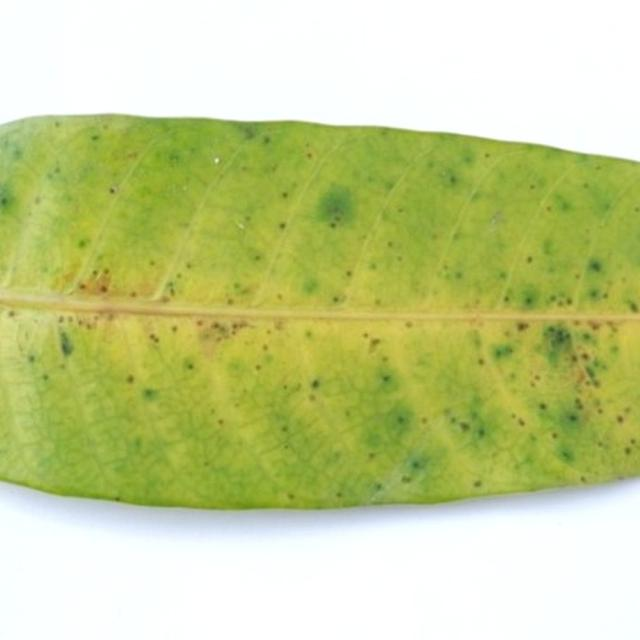Mango: (0, 116, 639, 508)
Powdery_Mildew: (349, 202, 445, 295), (211, 229, 271, 282), (567, 177, 624, 232), (574, 250, 627, 304), (266, 405, 313, 453), (550, 401, 586, 442), (320, 192, 352, 223), (431, 165, 465, 193), (383, 407, 414, 436), (70, 312, 110, 332), (374, 364, 396, 396), (546, 193, 574, 218), (515, 284, 542, 307), (231, 122, 262, 141), (205, 321, 231, 341), (363, 333, 385, 354), (57, 329, 74, 356), (492, 342, 516, 360), (0, 187, 16, 212), (582, 363, 599, 382), (548, 293, 571, 307), (302, 278, 320, 295), (541, 238, 557, 257), (410, 456, 428, 472), (166, 150, 184, 165), (488, 211, 503, 226), (272, 317, 287, 331), (142, 387, 157, 400), (516, 320, 531, 332), (166, 282, 177, 297), (125, 151, 139, 160), (149, 333, 160, 344), (460, 421, 470, 432), (78, 238, 88, 248), (99, 283, 109, 293), (477, 427, 486, 438), (310, 379, 320, 388), (7, 309, 17, 318), (374, 482, 383, 491), (616, 414, 625, 423), (624, 446, 633, 455), (332, 295, 342, 303), (126, 374, 134, 384), (579, 474, 589, 482), (538, 402, 547, 410), (27, 355, 36, 363), (402, 475, 411, 483), (517, 418, 525, 427), (473, 480, 482, 488), (108, 186, 117, 194), (186, 362, 194, 370), (278, 222, 286, 230), (287, 492, 295, 500), (526, 256, 533, 264), (91, 134, 99, 141), (171, 325, 179, 332), (34, 196, 41, 204), (306, 152, 313, 160), (182, 184, 189, 192), (113, 495, 122, 501), (386, 241, 393, 248), (254, 364, 261, 371), (262, 344, 269, 351), (534, 374, 541, 381), (217, 419, 224, 426), (363, 332, 370, 339), (483, 152, 490, 159), (336, 491, 343, 498), (346, 270, 352, 277), (478, 358, 484, 365), (309, 395, 315, 402), (552, 432, 558, 439), (282, 192, 288, 198), (546, 206, 552, 212), (636, 438, 640, 446)
